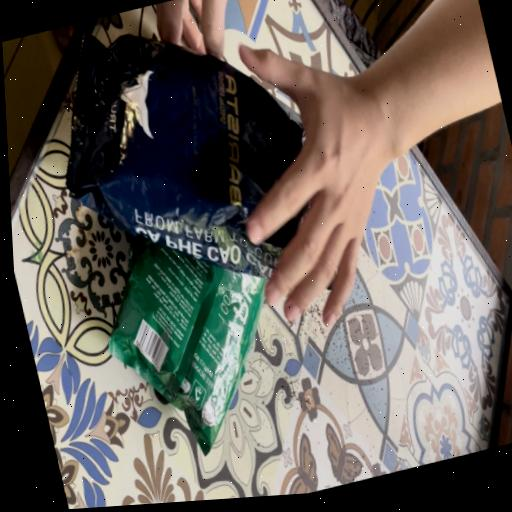cafe_hat: (65, 34, 302, 278)
cafe_xay: (108, 238, 264, 455)
